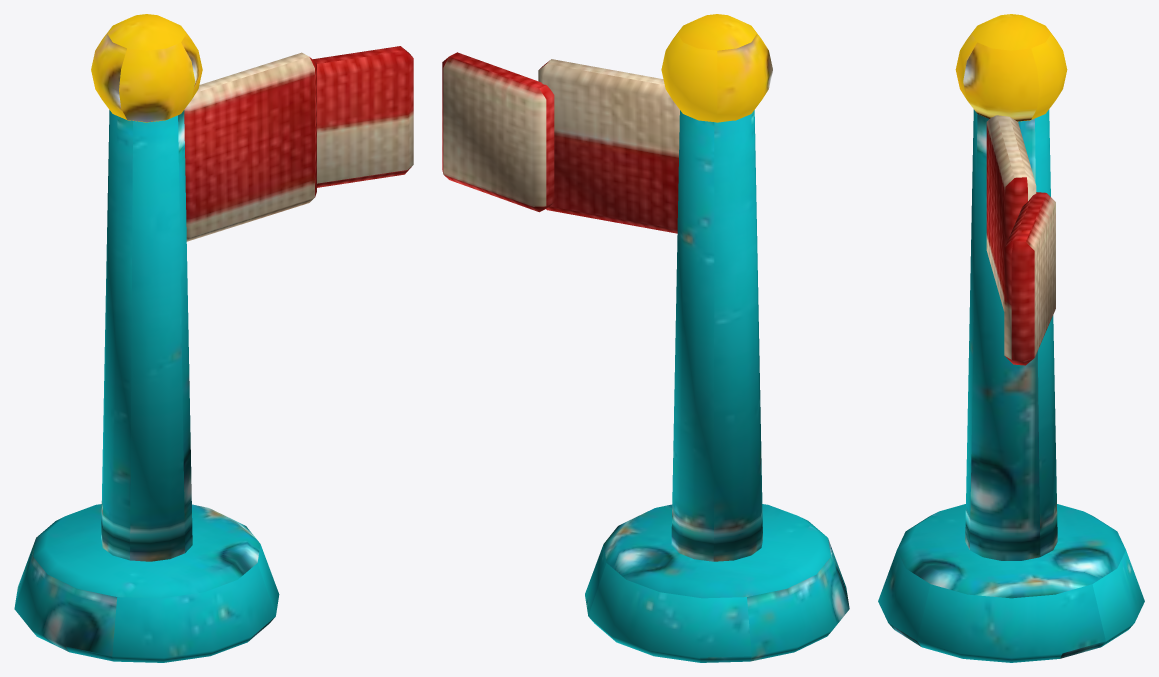
File: banderin.glb
3 renders of one model, left to right at view 1: azimuth 30°, elevation 25°; view 2: azimuth 150°, elevation 25°; view 3: azimuth 270°, elevation 25°, orthographic.
Visible parts, largest first — view 1: banderin; view 2: banderin; view 3: banderin.
Part boxes in pixels (x1=…): banderin: x1=14, y1=14, x2=413, y2=662; banderin: x1=442, y1=14, x2=849, y2=662; banderin: x1=878, y1=14, x2=1144, y2=662.
Bounding box in the file's own units: 0.6812 × 1 × 0.41.
Materials: 3 (3 with a texture image).
